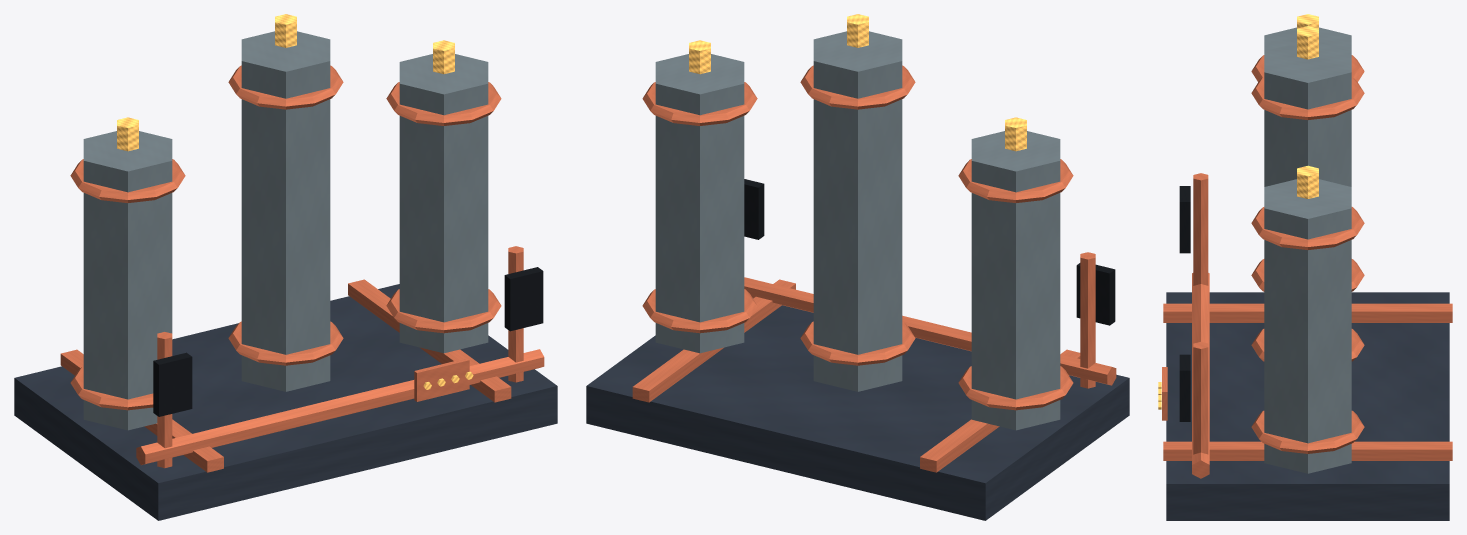
File: atlas100-s028-a02.glb
3 renders of one model, left to right at view 1: azimuth 30°, elevation 25°; view 2: azimuth 150°, elevation 25°; view 3: azimuth 270°, elevation 25°, orthographic.
Parts seen in each view (by area): view 1: atlas100-s028-a02:part-000, atlas100-s028-a02:part-007, atlas100-s028-a02:part-011, atlas100-s028-a02:part-003, atlas100-s028-a02:part-019, atlas100-s028-a02:part-002, atlas100-s028-a02:part-016, atlas100-s028-a02:part-018, atlas100-s028-a02:part-008, atlas100-s028-a02:part-012, atlas100-s028-a02:part-005, atlas100-s028-a02:part-009 (+9 smaller); view 2: atlas100-s028-a02:part-000, atlas100-s028-a02:part-007, atlas100-s028-a02:part-003, atlas100-s028-a02:part-011, atlas100-s028-a02:part-019, atlas100-s028-a02:part-002, atlas100-s028-a02:part-015, atlas100-s028-a02:part-001, atlas100-s028-a02:part-008, atlas100-s028-a02:part-012, atlas100-s028-a02:part-004, atlas100-s028-a02:part-005 (+7 smaller); view 3: atlas100-s028-a02:part-000, atlas100-s028-a02:part-011, atlas100-s028-a02:part-007, atlas100-s028-a02:part-001, atlas100-s028-a02:part-002, atlas100-s028-a02:part-019, atlas100-s028-a02:part-015, atlas100-s028-a02:part-017, atlas100-s028-a02:part-012, atlas100-s028-a02:part-013, atlas100-s028-a02:part-009, atlas100-s028-a02:part-003 (+7 smaller).
Boxes of the visible parts, x1,y1,x2,y2 form: atlas100-s028-a02:part-000: [14, 284, 557, 520]; atlas100-s028-a02:part-007: [241, 31, 330, 391]; atlas100-s028-a02:part-011: [399, 54, 488, 353]; atlas100-s028-a02:part-003: [83, 131, 172, 430]; atlas100-s028-a02:part-019: [136, 349, 544, 465]; atlas100-s028-a02:part-002: [348, 279, 511, 402]; atlas100-s028-a02:part-016: [153, 352, 192, 416]; atlas100-s028-a02:part-018: [504, 267, 543, 331]; atlas100-s028-a02:part-008: [228, 321, 343, 365]; atlas100-s028-a02:part-012: [386, 289, 501, 333]; atlas100-s028-a02:part-005: [70, 159, 185, 202]; atlas100-s028-a02:part-009: [228, 65, 343, 109]; atlas100-s028-a02:part-000: [586, 298, 1129, 520]; atlas100-s028-a02:part-007: [813, 31, 902, 391]; atlas100-s028-a02:part-003: [971, 131, 1060, 430]; atlas100-s028-a02:part-011: [655, 54, 744, 353]; atlas100-s028-a02:part-019: [744, 277, 1116, 385]; atlas100-s028-a02:part-002: [632, 279, 795, 402]; atlas100-s028-a02:part-015: [1080, 252, 1095, 388]; atlas100-s028-a02:part-001: [920, 349, 1080, 472]; atlas100-s028-a02:part-008: [800, 321, 915, 365]; atlas100-s028-a02:part-012: [642, 289, 757, 333]; atlas100-s028-a02:part-004: [958, 366, 1073, 410]; atlas100-s028-a02:part-005: [958, 159, 1073, 202]; atlas100-s028-a02:part-000: [1166, 292, 1449, 520]; atlas100-s028-a02:part-011: [1264, 179, 1351, 473]; atlas100-s028-a02:part-007: [1264, 43, 1351, 186]; atlas100-s028-a02:part-001: [1163, 303, 1452, 322]; atlas100-s028-a02:part-002: [1163, 441, 1452, 460]; atlas100-s028-a02:part-019: [1192, 273, 1209, 478]; atlas100-s028-a02:part-015: [1193, 173, 1208, 285]; atlas100-s028-a02:part-017: [1193, 342, 1208, 454]; atlas100-s028-a02:part-012: [1251, 410, 1364, 453]; atlas100-s028-a02:part-013: [1251, 207, 1364, 249]; atlas100-s028-a02:part-009: [1251, 77, 1364, 119]; atlas100-s028-a02:part-003: [1264, 27, 1351, 50].
Bounding box in the file's own units: 3 × 2.76 × 1.87.
Materials: 5 (5 with a texture image).
